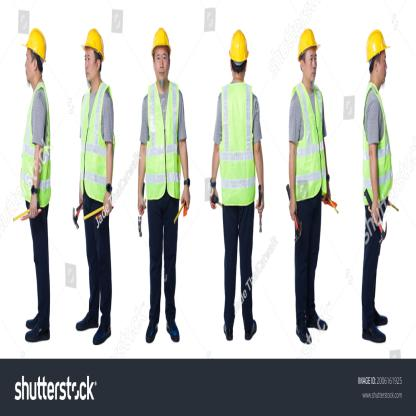bota: (24, 316, 52, 348), (361, 321, 389, 347), (75, 306, 100, 335), (91, 318, 113, 349), (143, 313, 161, 346), (294, 319, 314, 347), (164, 316, 182, 347), (244, 315, 260, 342), (222, 317, 236, 345), (308, 312, 329, 330), (372, 303, 389, 324)
capacete: (364, 26, 392, 66), (21, 26, 50, 62), (225, 27, 251, 67), (79, 24, 106, 62), (296, 25, 322, 62), (151, 24, 173, 58)
